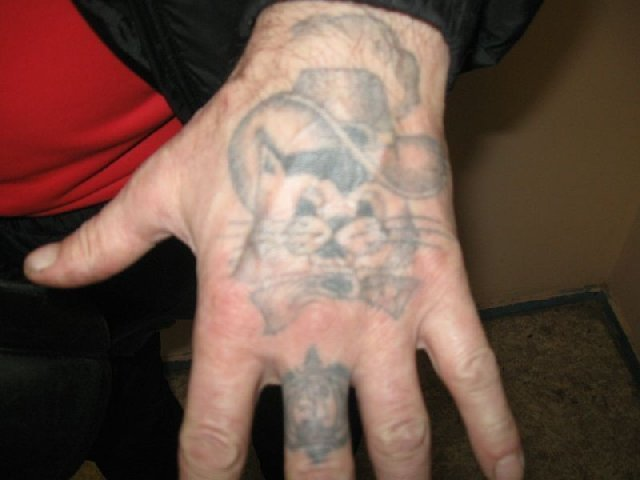tatu8_kot: (211, 12, 467, 337)
